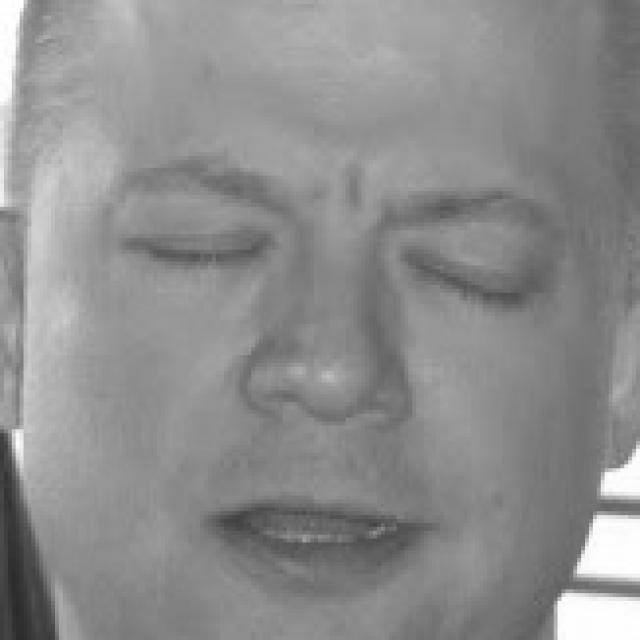real: (26, 0, 601, 640), (103, 184, 561, 324)
